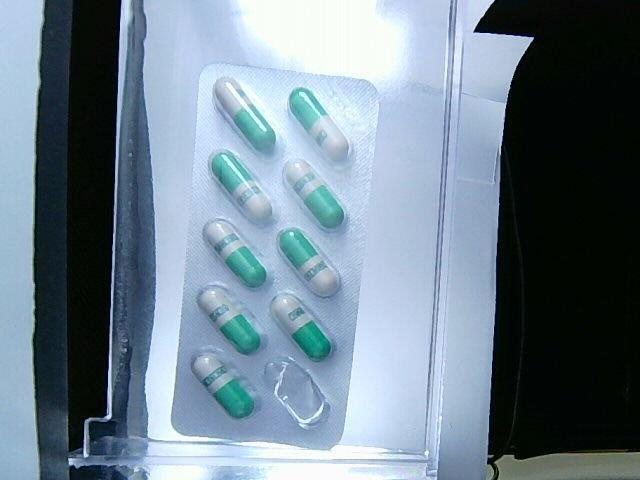Light Front: (169, 64, 379, 453)
No Pill Front: (264, 358, 330, 429)
Pill Front: (213, 79, 281, 158), (196, 285, 266, 358), (200, 218, 270, 290), (288, 88, 351, 166), (281, 159, 347, 233), (209, 149, 272, 224), (191, 345, 254, 418), (278, 228, 342, 298), (270, 294, 335, 360)
